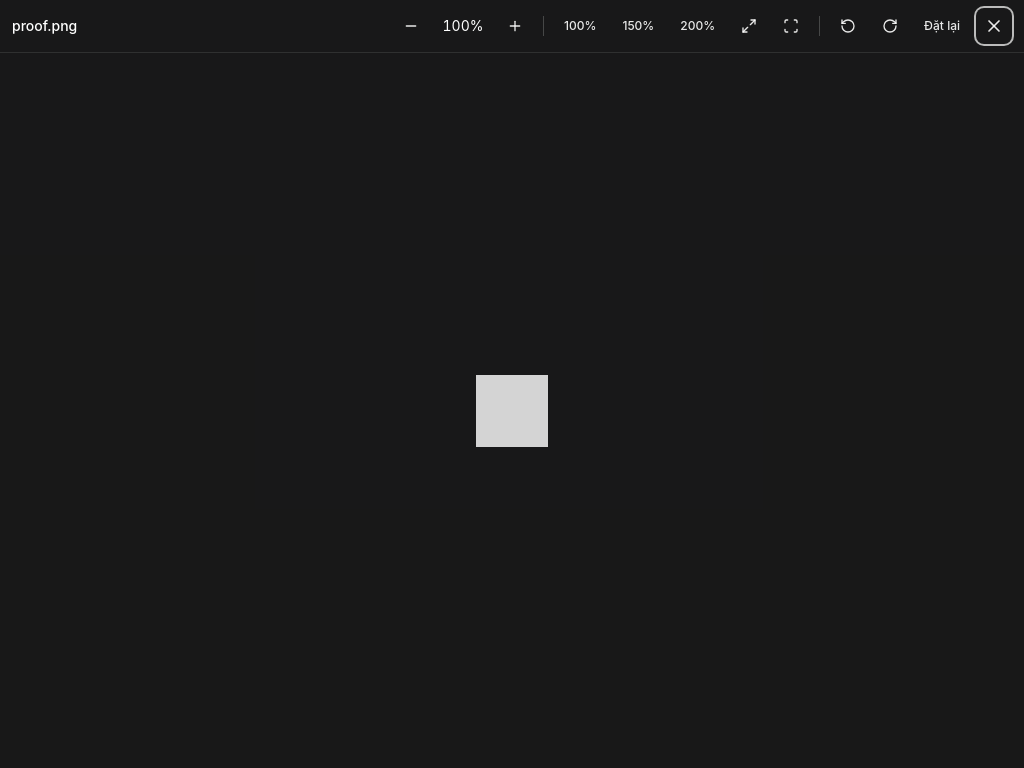
Test: ImageViewer — reset › reset returns zoom to 100% and rotation to 0°
Click the button "200%" at {"x": 698, "y": 26}, box x1=670 y1=8 x2=725 y2=44
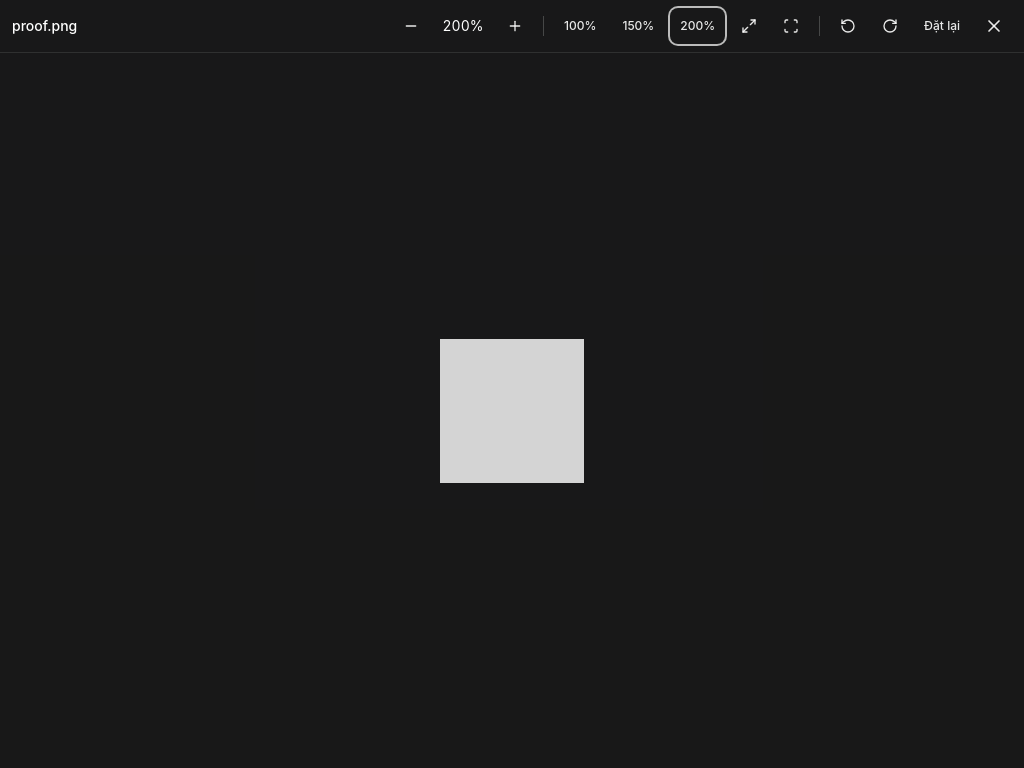
Click the button named "Xoay phải (phím R)" at {"x": 890, "y": 26}, box x1=872 y1=8 x2=908 y2=44
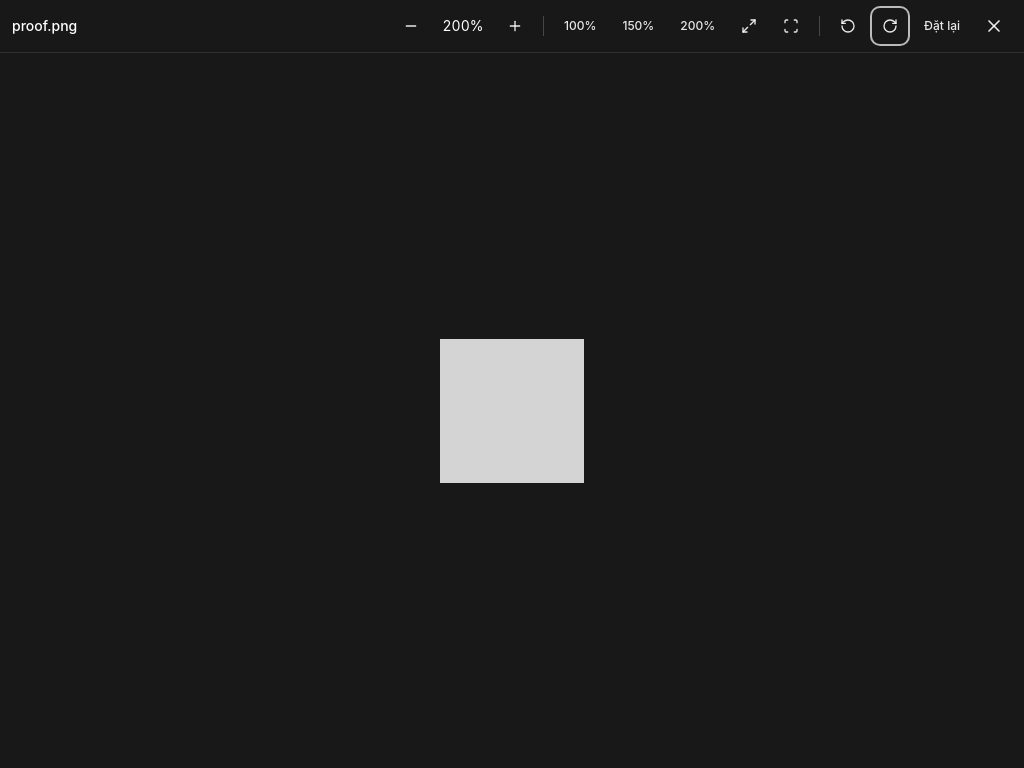
Click the button "Đặt lại" at {"x": 942, "y": 26}, box x1=914 y1=8 x2=970 y2=44
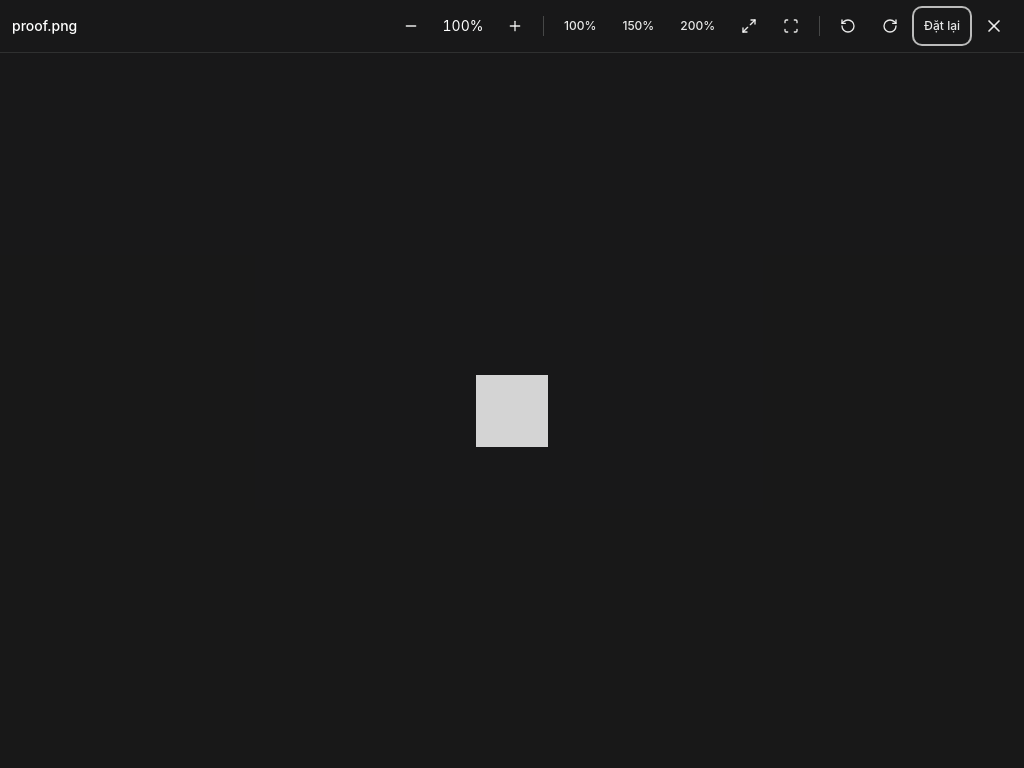
Now the message reads "100%", box x1=442 y1=17 x2=484 y2=34
